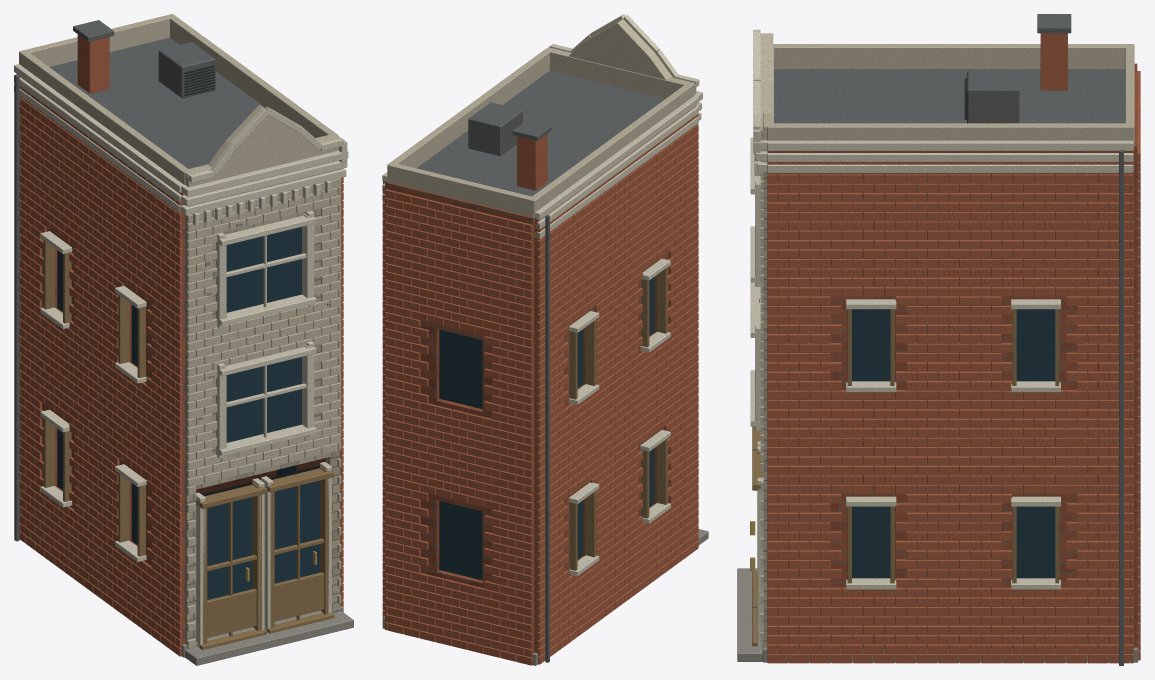
File: RUNDWN11_lod0.glb
3 renders of one model, left to right at view 1: azimuth 30°, elevation 25°; view 2: azimuth 150°, elevation 25°; view 3: azimuth 270°, elevation 25°, orthographic. The views are drawn at different scales.
Visible parts, largest first — view 1: RUNDWN11_LOD0; view 2: RUNDWN11_LOD0; view 3: RUNDWN11_LOD0.
Part boxes in pixels (bbox=[...]): RUNDWN11_LOD0: bbox=[14, 14, 353, 665]; RUNDWN11_LOD0: bbox=[382, 14, 708, 665]; RUNDWN11_LOD0: bbox=[737, 14, 1140, 665].
Size of the model in its own units: 3.71 by 10.64 by 6.6.
Materials: 16 (13 with a texture image).
